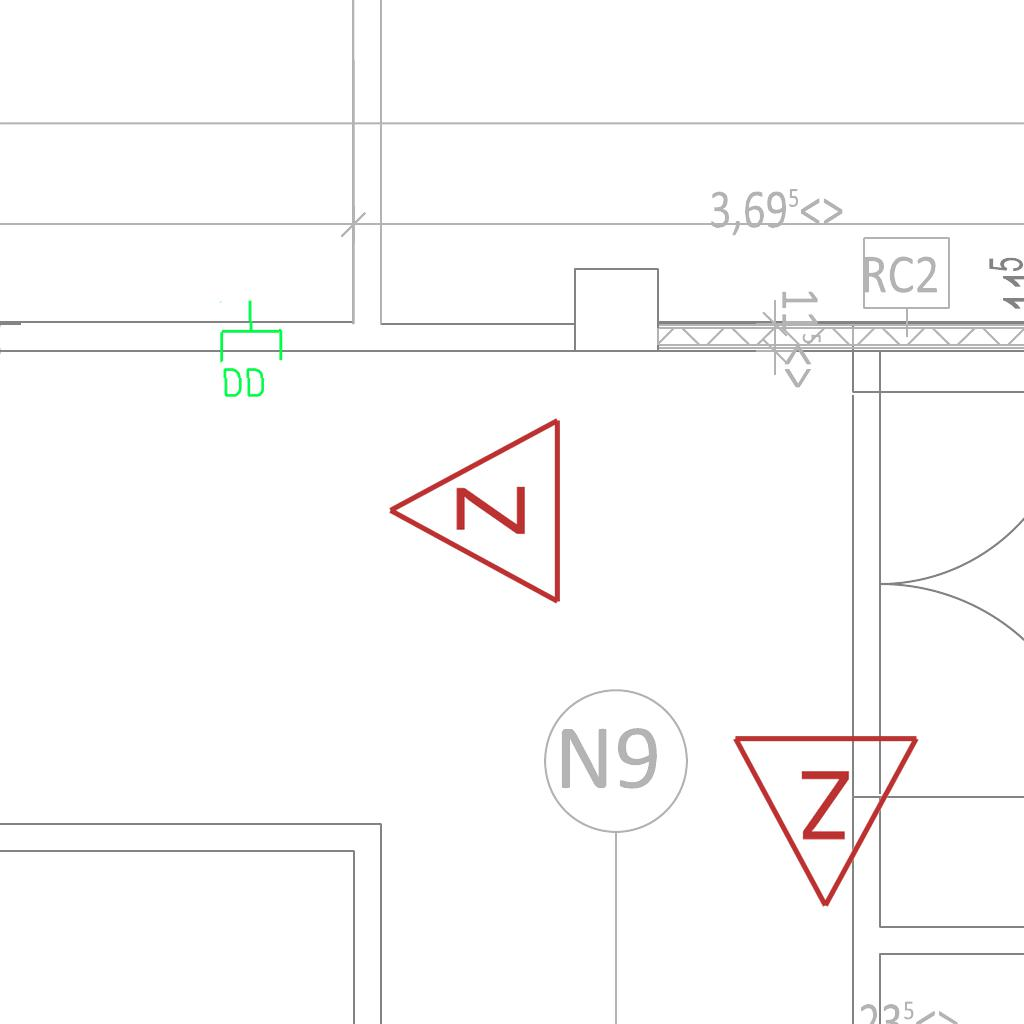Datenanschluss_zweifach: (215, 297, 286, 402)
Zimmersignalleuchte: (375, 415, 575, 611), (730, 721, 926, 921)
